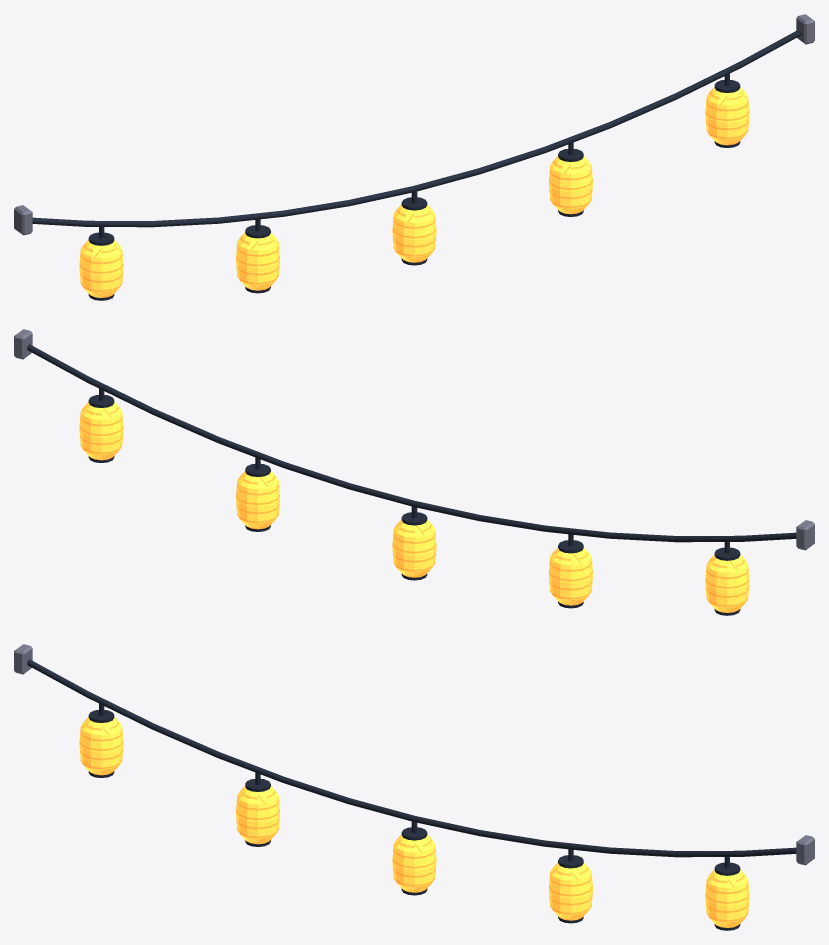
Rendered from market-lantern-string.glb.
The picture shows the model from 3 angles, top to bottom: view 1: azimuth 30°, elevation 25°; view 2: azimuth 150°, elevation 25°; view 3: azimuth 330°, elevation 25°; orthographic projection.
Visible parts, largest first — view 1: Paper_lantern, Paper_lantern.004, Paper_lantern.002, Paper_lantern.001, Paper_lantern.003; view 2: Paper_lantern, Paper_lantern.004, Paper_lantern.002, Paper_lantern.001, Paper_lantern.003; view 3: Paper_lantern.004, Paper_lantern, Paper_lantern.002, Paper_lantern.003, Paper_lantern.001.
Part boxes in pixels (x1,y1,x2,y2): Paper_lantern: (79,240,123,297); Paper_lantern.004: (705,87,749,145); Paper_lantern.002: (392,204,436,262); Paper_lantern.001: (236,232,279,290); Paper_lantern.003: (549,156,592,214); Paper_lantern: (705,555,749,612); Paper_lantern.004: (79,402,123,460); Paper_lantern.002: (392,519,436,577); Paper_lantern.001: (549,547,592,605); Paper_lantern.003: (236,471,279,529); Paper_lantern.004: (705,870,749,927); Paper_lantern: (79,717,123,775); Paper_lantern.002: (392,834,436,892); Paper_lantern.003: (549,862,592,920); Paper_lantern.001: (236,786,279,844).
Bounding box in the file's own units: 6.09 × 1.08 × 0.294.
2 materials, 2 textured.
